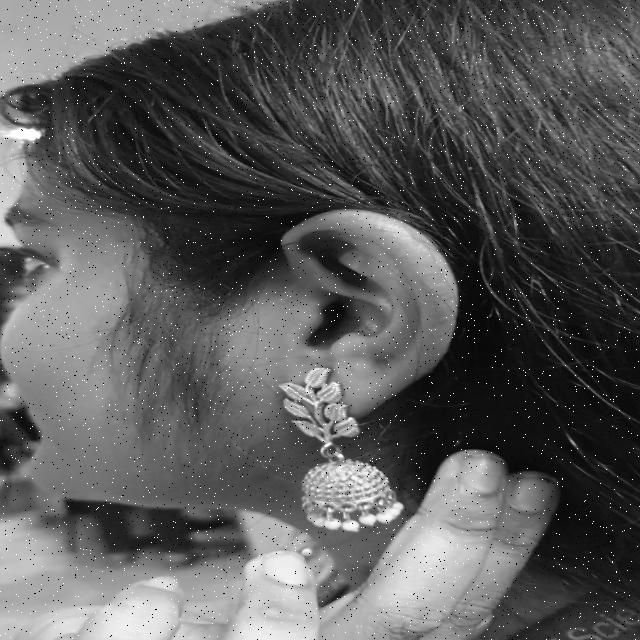ear: (282, 210, 457, 415)
